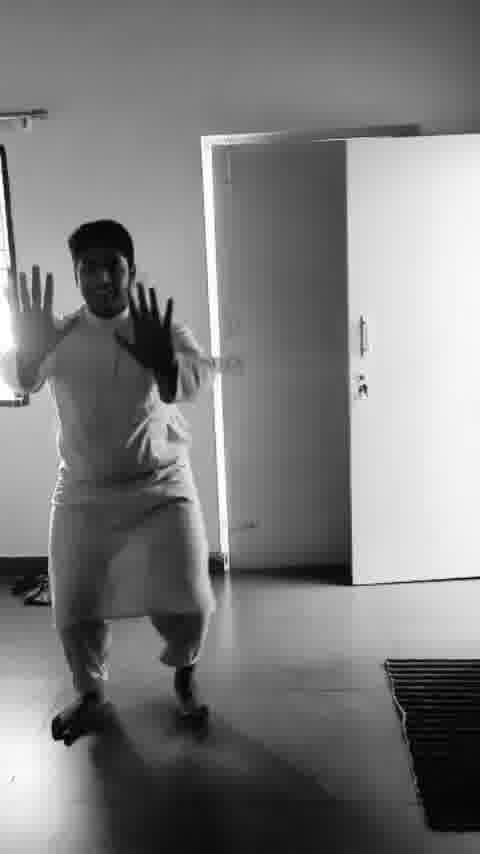duck: (2, 216, 258, 742)
